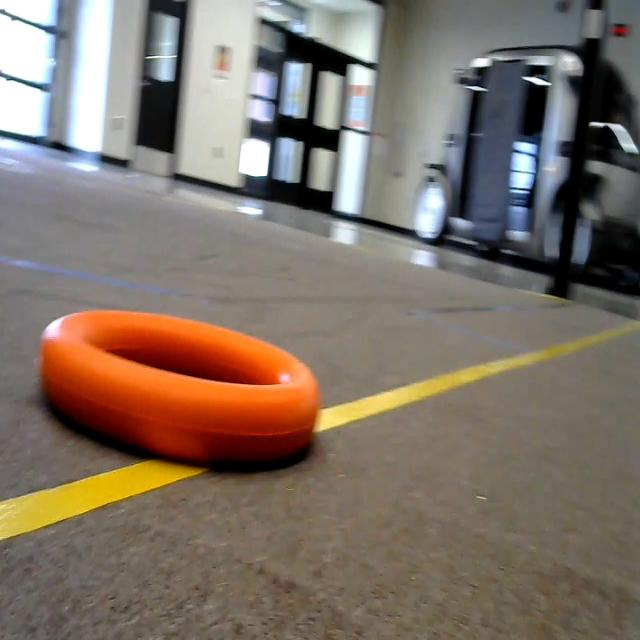note: (25, 263, 332, 496)
